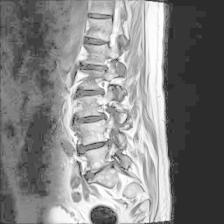disc: (80, 32, 118, 52), (83, 7, 121, 26)
hdisc: (62, 110, 116, 127), (69, 80, 109, 102), (70, 139, 118, 152), (76, 60, 114, 76)
